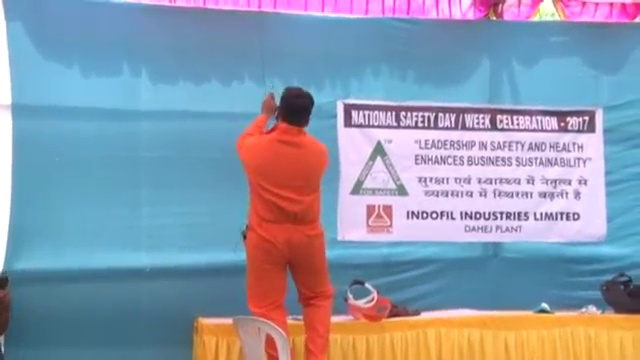helmet_off: (278, 85, 314, 128)
person: (236, 85, 336, 360)
